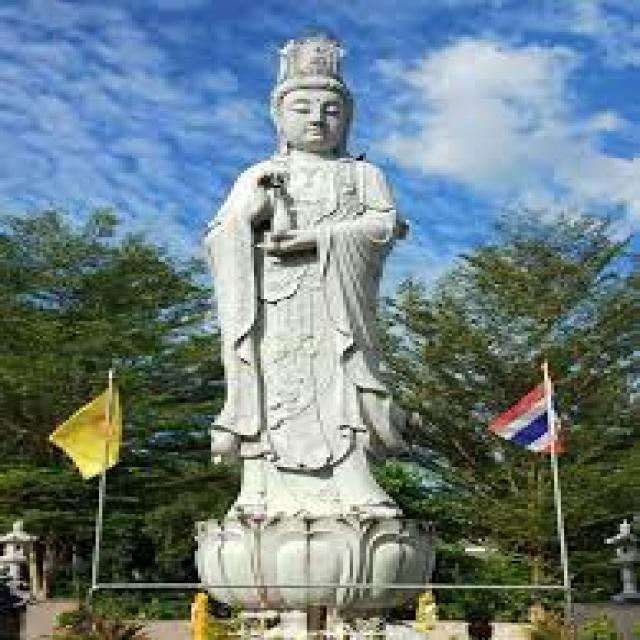Guan Yin: (200, 34, 414, 448)
